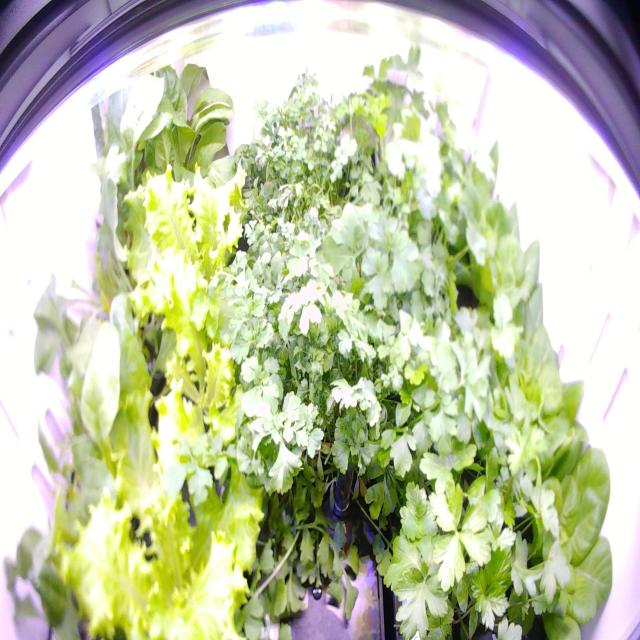young: (485, 422, 619, 640), (447, 277, 589, 453), (439, 185, 548, 311)
